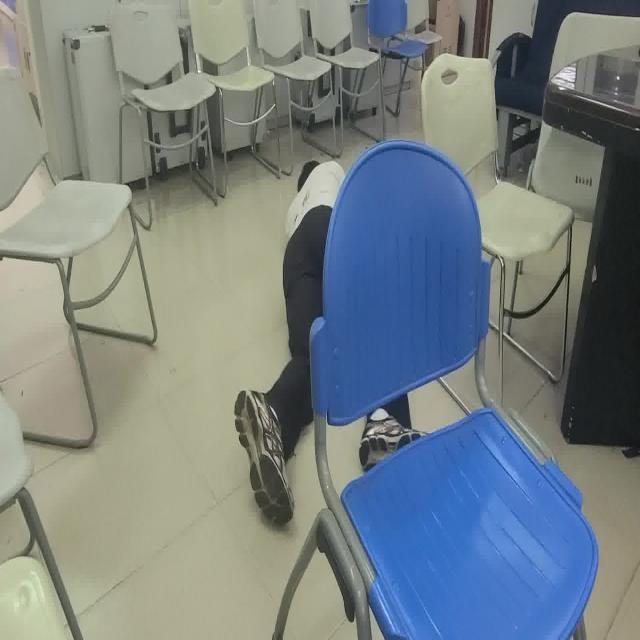fall: (230, 156, 437, 537)
